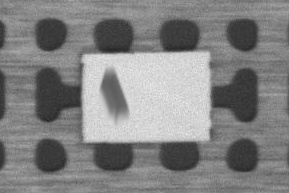DIE_INK: (97, 64, 131, 118)
